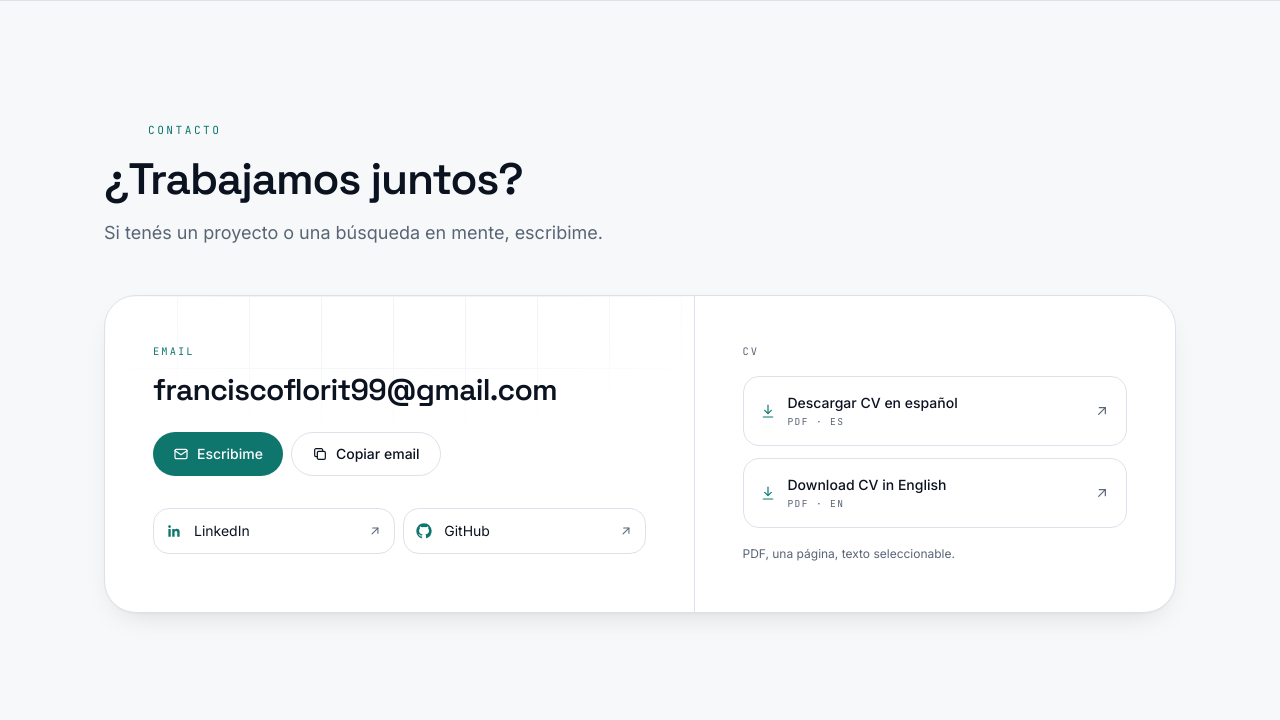
Test case: Contact › copies the email address
This screenshot has width=1280, height=720.
What coordinates should you click on to do the following:
click the button "Copiar email"
I would click on:
 (366, 454)
Its box is [291,432,441,476].
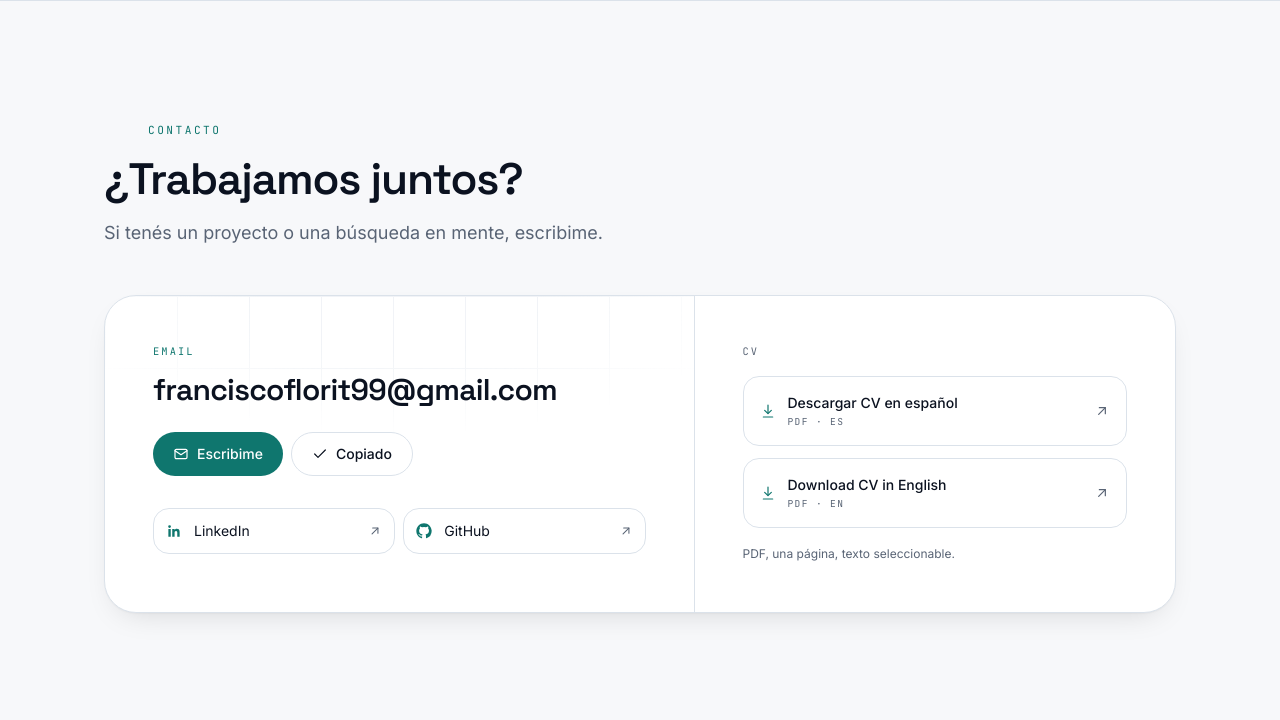
Result: the button "Copiado" is shown at [291,432,413,476]
